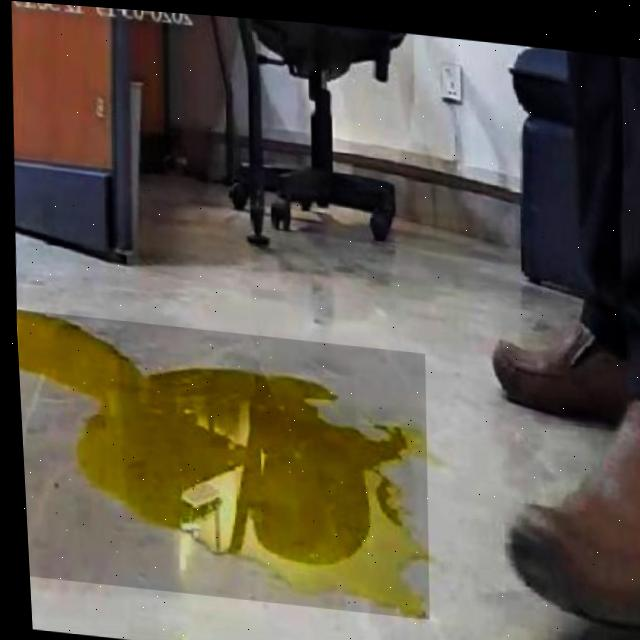spillage: (15, 310, 422, 611)
